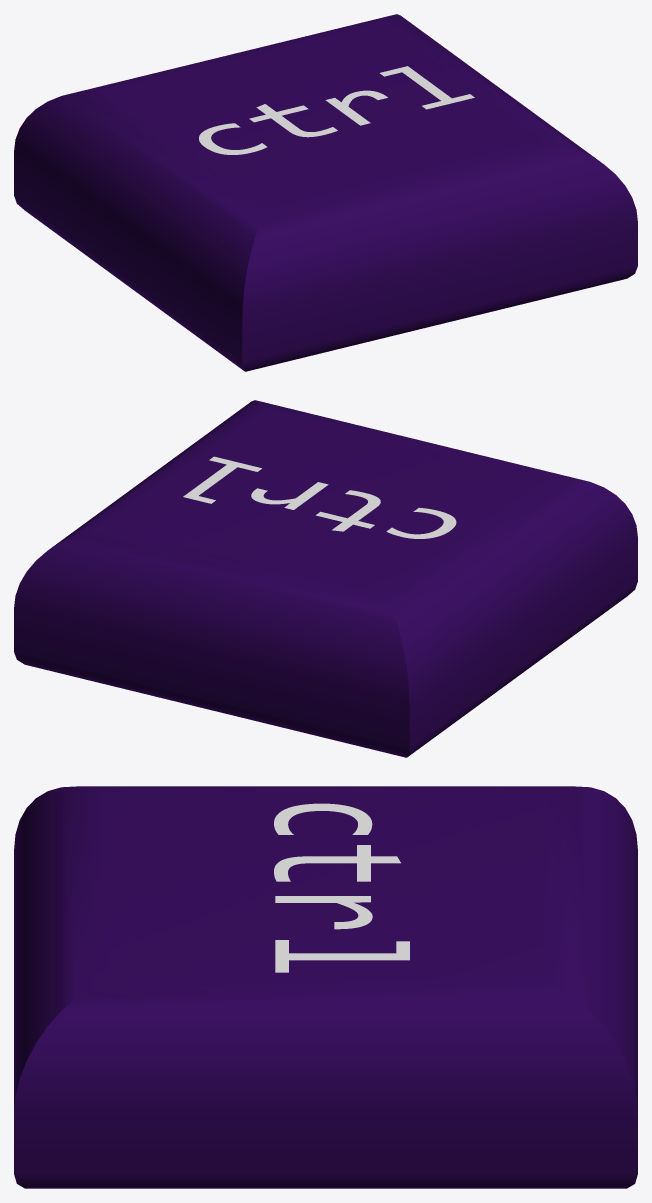
The model's file is ctrl-key.glb.
3 views of the same model, one above another, from view 1: azimuth 30°, elevation 25°; view 2: azimuth 150°, elevation 25°; view 3: azimuth 270°, elevation 25° (orthographic). The views are drawn at different scales.
Parts seen in each view (by area): view 1: Cube, Text; view 2: Cube, Text; view 3: Cube, Text.
Boxes of the visible parts, x1,y1,x2,y2 form: Cube: (14,14,637,371); Text: (199,66,474,154); Cube: (14,400,637,757); Text: (183,456,456,538); Cube: (14,786,637,1188); Text: (274,803,409,972).
Size of the model in its own units: 1.34 by 0.4228 by 1.34.
